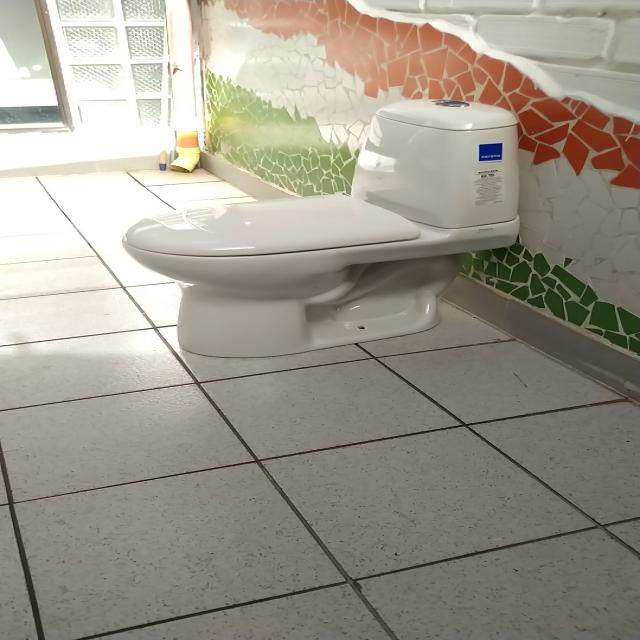toilet: (121, 98, 521, 358)
